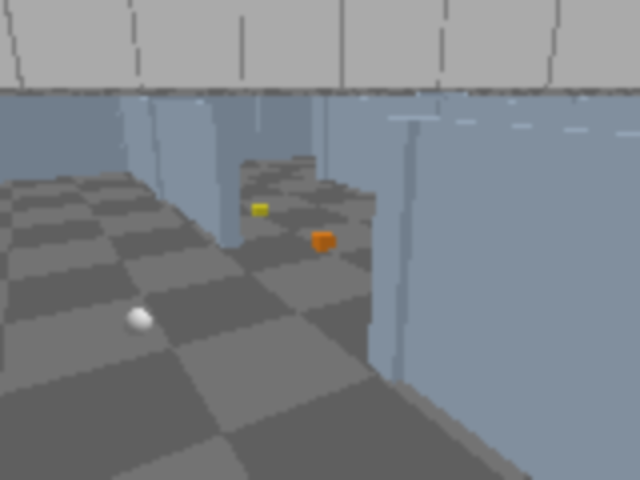puck: (119, 302, 156, 344), (313, 231, 335, 252)
